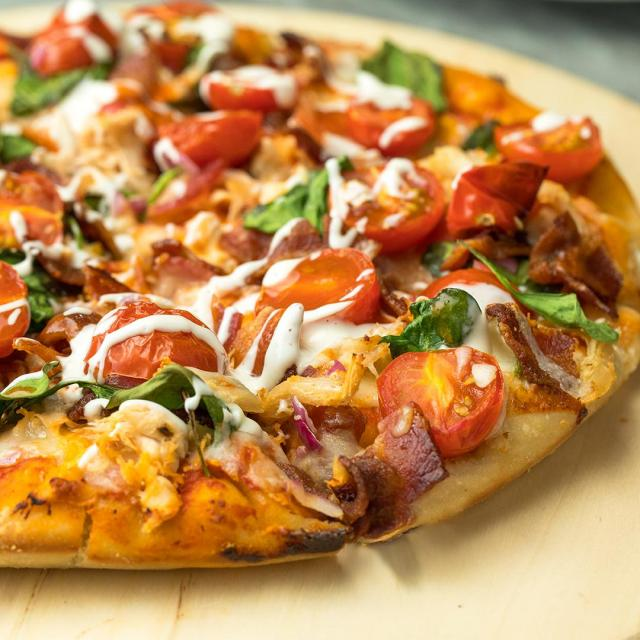pizza: (0, 13, 640, 576)
